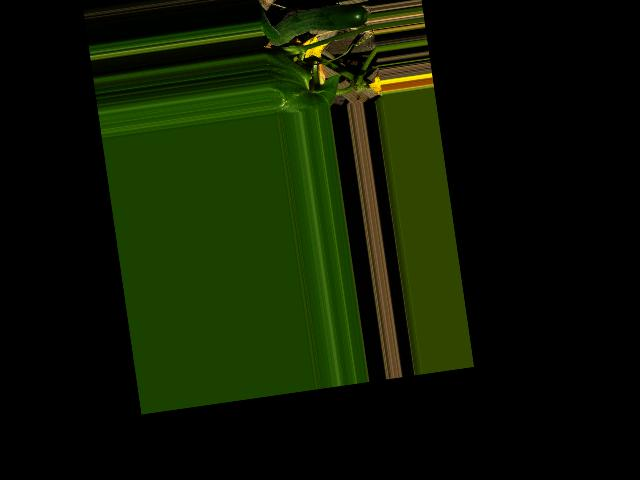cucumber: (259, 0, 368, 47)
